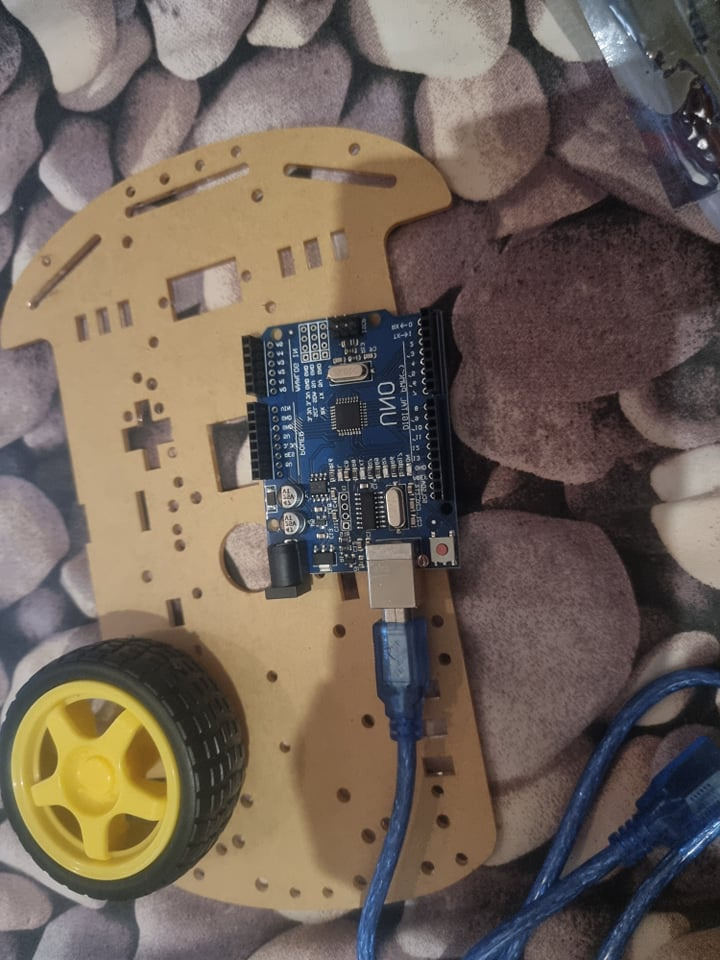UNO R3: (241, 306, 459, 611)
